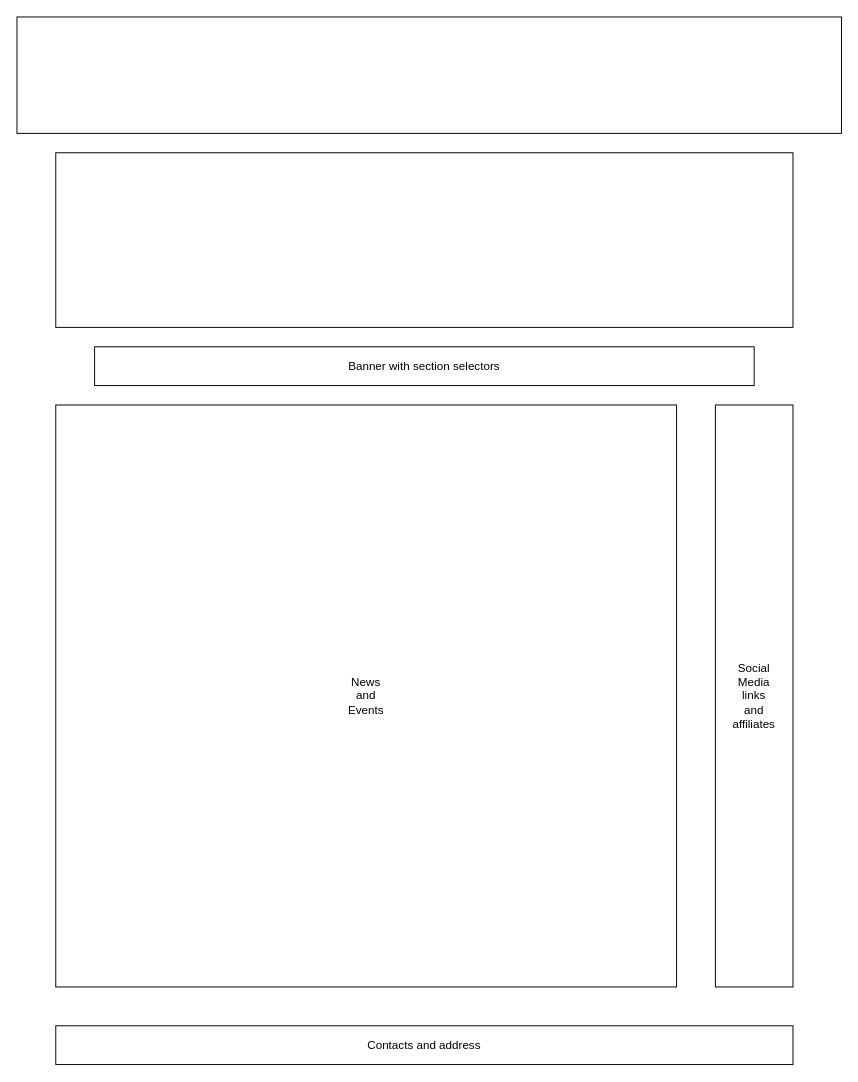
The diagram is 858 pixels wide and 1082 high, and some of its shapes have lost their labels. Here are the shapes that lost their labels. From the top down, the centre of each, then its label:
At pixel 428 74: "Logo".
At pixel 424 239: "Store Picture".
